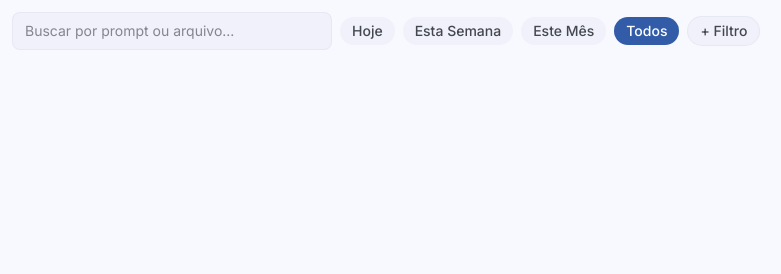
Scenario: HistoryFilterBar › closes popover when clicking outside
Note: Open popover
Click the button "+ Filtro": (724, 31) [687,16,760,46]
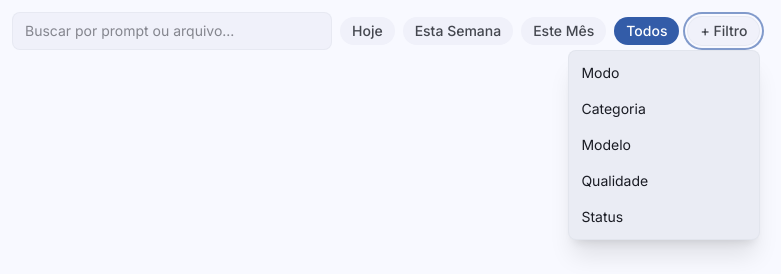
Expected: the text "Modo" is shown, [581,63,619,83]
Note: Click on the search input (outside the popover)
Click the field with placeholder "Buscar por prompt ou arquivo...": (172, 31) [12,12,332,50]
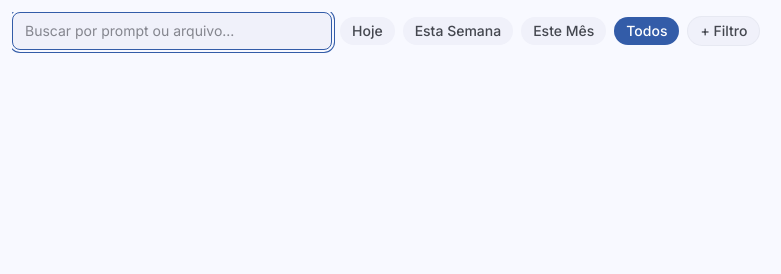
Expected: the button "Modo" is gone
